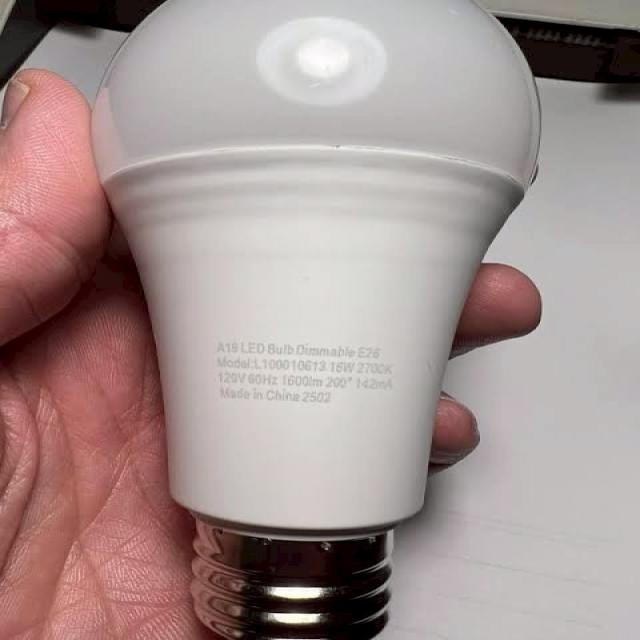bulb: (86, 0, 553, 640)
